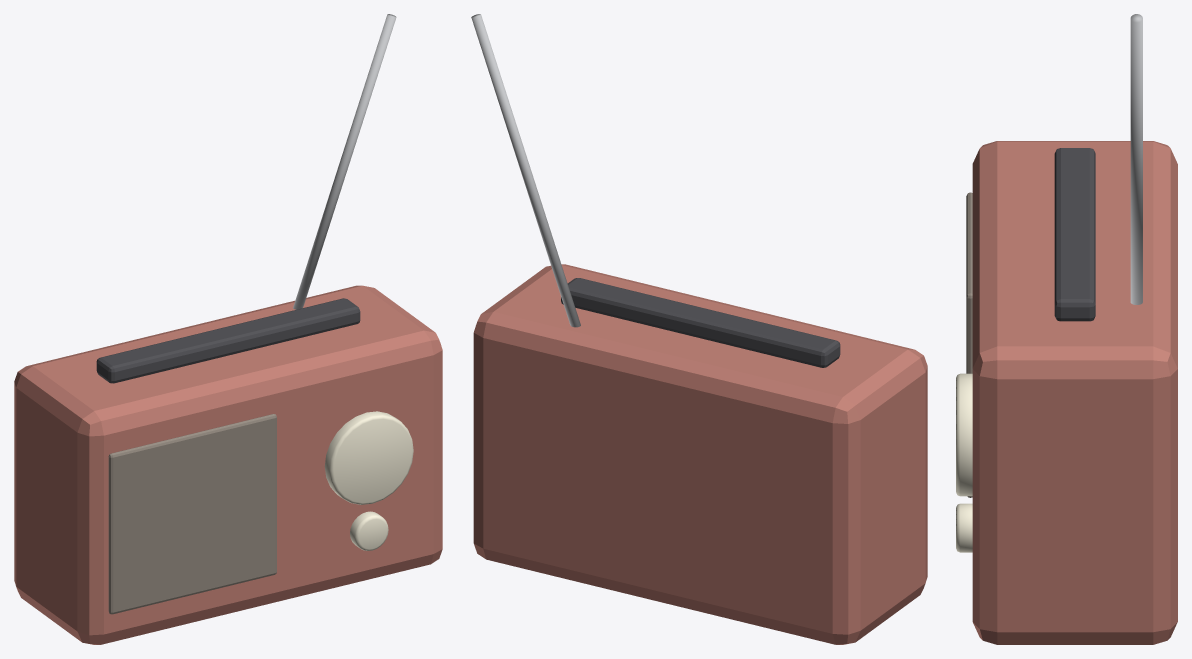
File: radio.fbx
The picture shows the model from 3 angles, left to right: view 1: azimuth 30°, elevation 25°; view 2: azimuth 150°, elevation 25°; view 3: azimuth 270°, elevation 25°; orthographic projection. The views are drawn at different scales.
Visible parts, largest first — view 1: radio; view 2: radio; view 3: radio.
Boxes of the visible parts, x1,y1,x2,y2 form: radio: (14,14,442,644); radio: (471,14,927,644); radio: (956,14,1177,644).
Bounding box in the file's own units: 0.2671 × 0.345 × 0.108.
